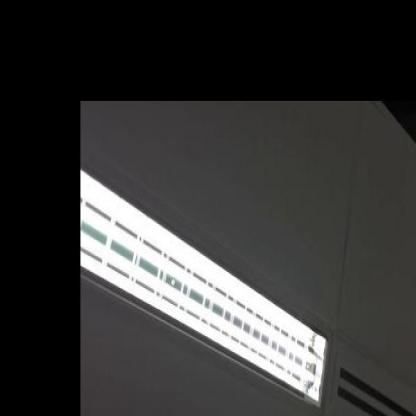light_on: (79, 156, 336, 415)
